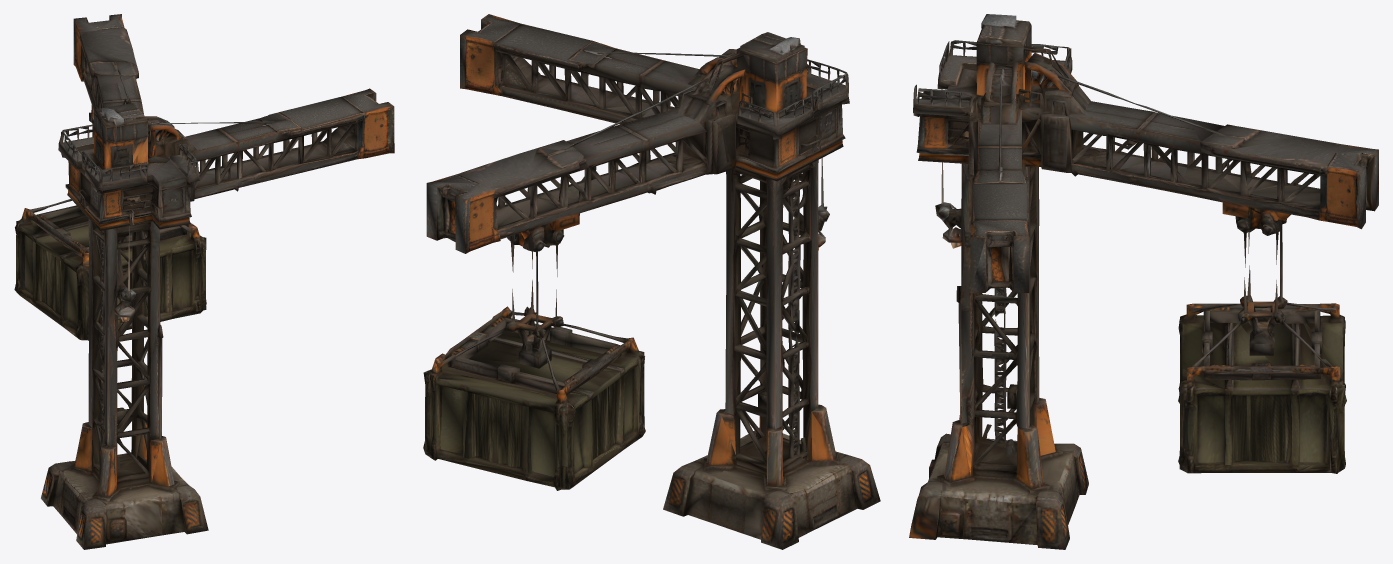
The model's file is cargo_crane.glb.
The picture shows the model from 3 angles, left to right: view 1: azimuth 30°, elevation 25°; view 2: azimuth 150°, elevation 25°; view 3: azimuth 270°, elevation 25°; orthographic projection. The views are drawn at different scales.
Bounding box in the file's own units: 0.8394 × 0.9997 × 0.8757.
Materials: 1 (1 with a texture image).
